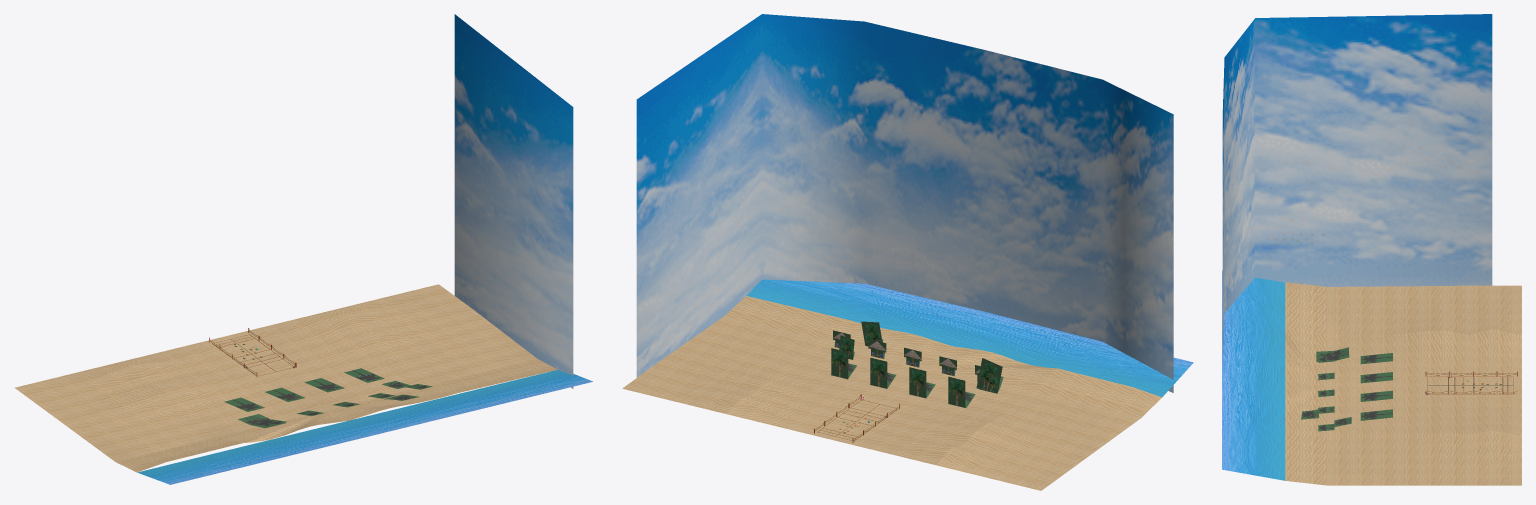
Rendered from EnvironmentC.glb.
3 views of the same model, side by side, from view 1: azimuth 30°, elevation 25°; view 2: azimuth 150°, elevation 25°; view 3: azimuth 270°, elevation 25° (orthographic). The views are drawn at different scales.
Visible parts, largest first — view 1: EnvironmentD_Original; view 2: EnvironmentD_Original; view 3: EnvironmentD_Original.
Boxes of the visible parts, x1=… form: EnvironmentD_Original: x1=14, y1=14, x2=592, y2=484; EnvironmentD_Original: x1=622, y1=14, x2=1193, y2=490; EnvironmentD_Original: x1=1222, y1=14, x2=1521, y2=485.
Bounding box in the file's own units: 193 × 124 × 122.
Materials: 2 (2 with a texture image).
